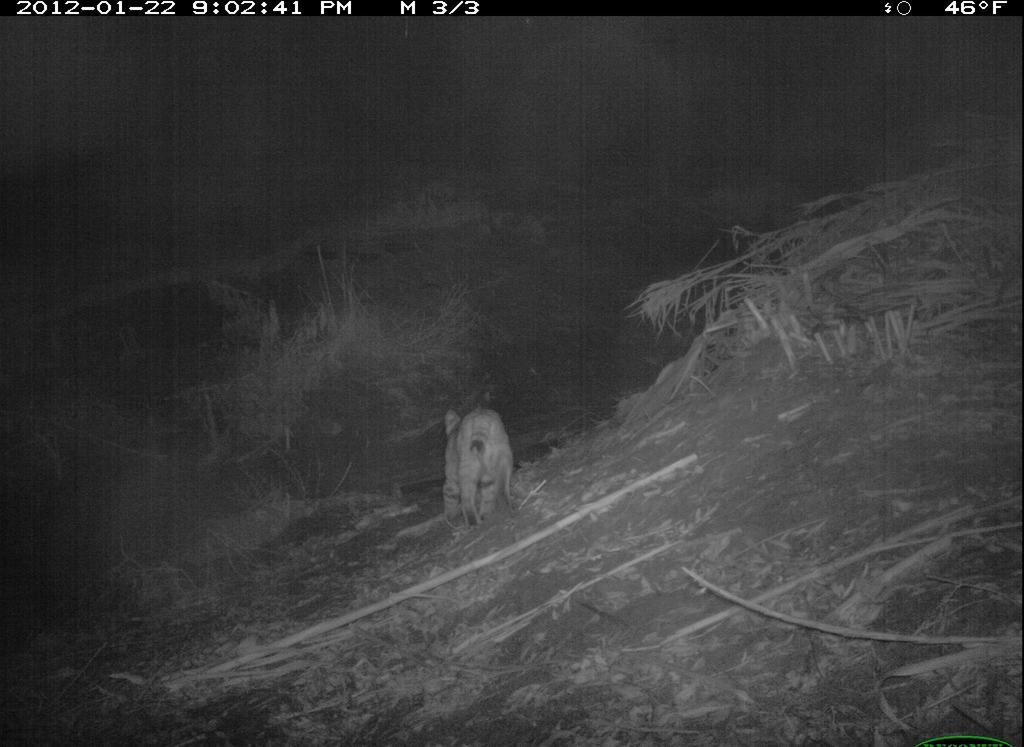bobcat: (417, 393, 548, 548)
